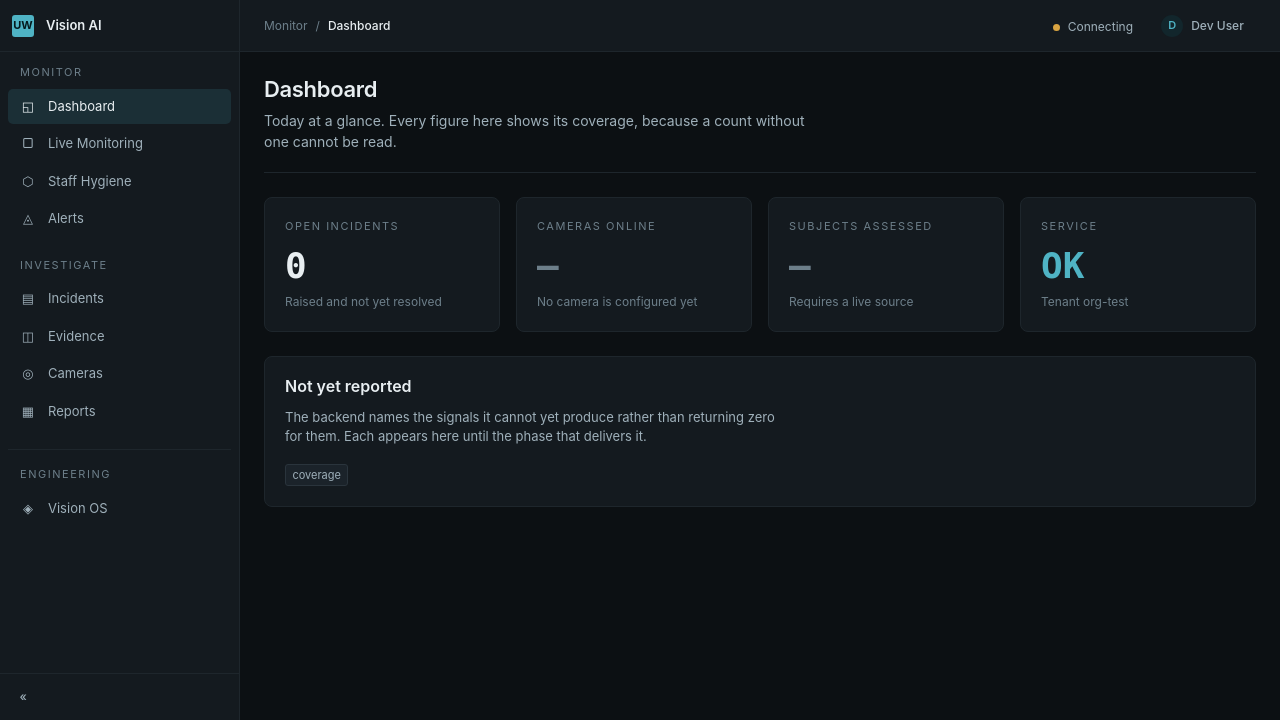
Test: logout › clears the session and returns to the login screen
Expected: the heading "Dashboard" is shown, [264,76,377,102]
Click the button "D Dev User" at (1202, 26), box [1149,9,1256,42]
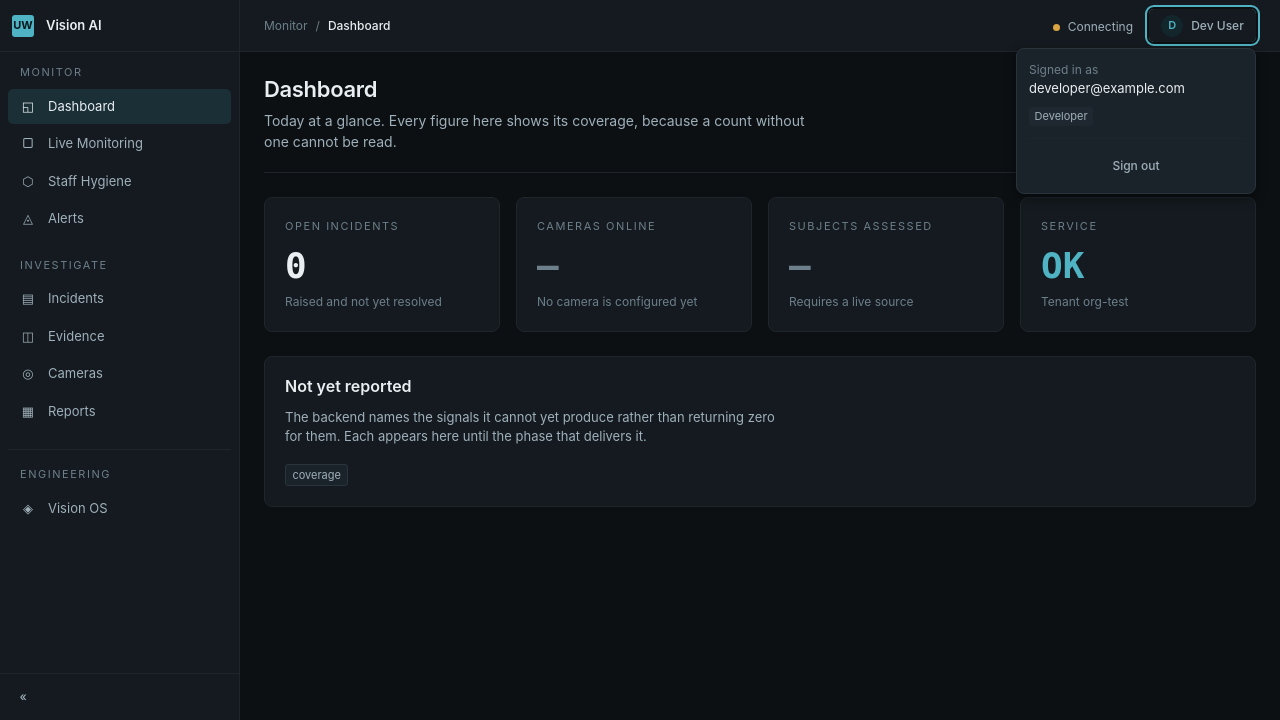
Click the menu item "Sign out" at (1136, 166), box [1029,152,1243,181]
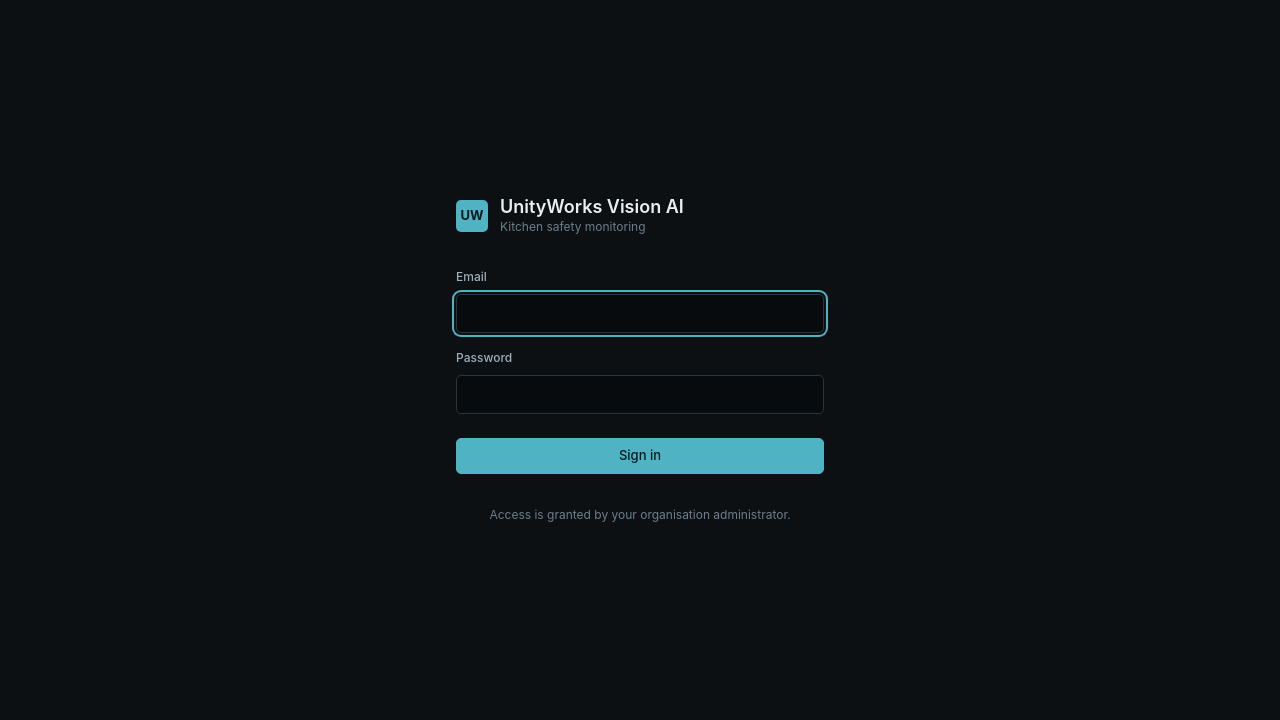
Result: the button "Sign in" is shown at [456,438,824,474]
